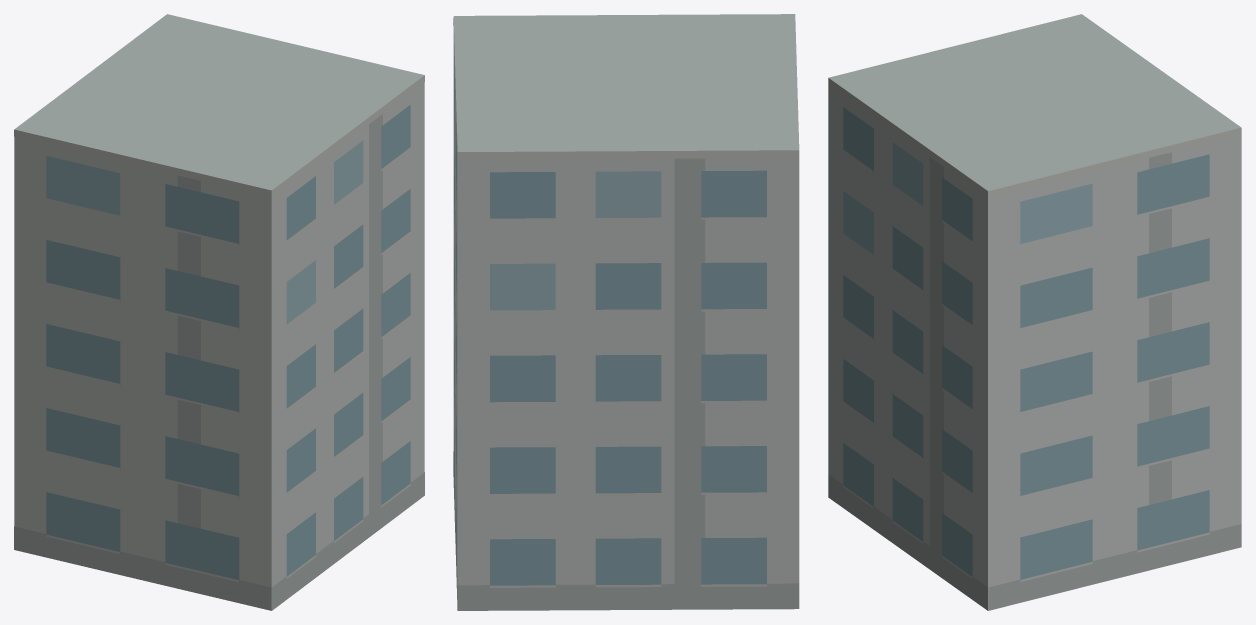
Rendered from survey-upis-32532063.glb.
The picture shows the model from 3 angles, left to right: view 1: azimuth 30°, elevation 25°; view 2: azimuth 150°, elevation 25°; view 3: azimuth 270°, elevation 25°; orthographic projection. The views are drawn at different scales.
Parts seen in each view (by area): view 1: survey-upis-32532063.tmp; view 2: survey-upis-32532063.tmp; view 3: survey-upis-32532063.tmp.
Boxes of the visible parts, left/top/right/bottom form: survey-upis-32532063.tmp: left=14, top=14, right=424, bottom=610; survey-upis-32532063.tmp: left=453, top=14, right=799, bottom=610; survey-upis-32532063.tmp: left=828, top=14, right=1241, bottom=610.
Size of the model in its own units: 13.06 by 14.41 by 12.87.
